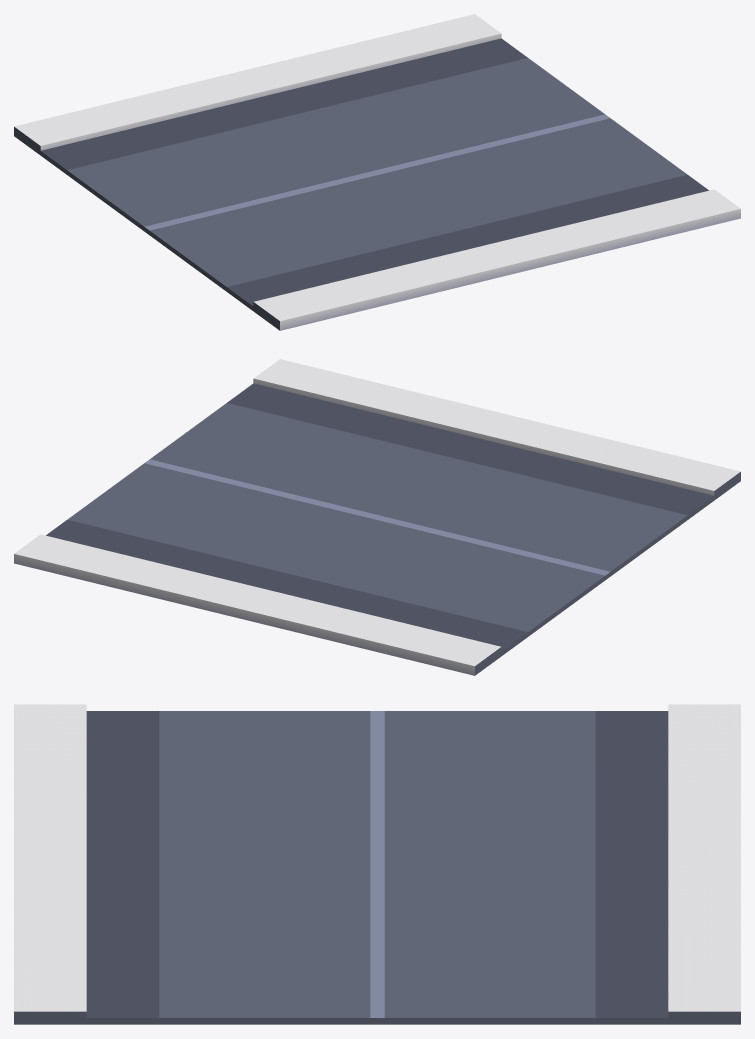
Rendered from road-straight.glb.
The picture shows the model from 3 angles, top to bottom: view 1: azimuth 30°, elevation 25°; view 2: azimuth 150°, elevation 25°; view 3: azimuth 270°, elevation 25°; orthographic projection. The views are drawn at different scales.
Parts seen in each view (by area): view 1: road-straight; view 2: road-straight; view 3: road-straight.
Part boxes in pixels (left/top/right/bottom): road-straight: left=14, top=14, right=740, bottom=330; road-straight: left=14, top=359, right=740, bottom=675; road-straight: left=14, top=704, right=740, bottom=1024.
Size of the model in its own units: 1 by 0.02 by 1.
1 material, 1 textured.
